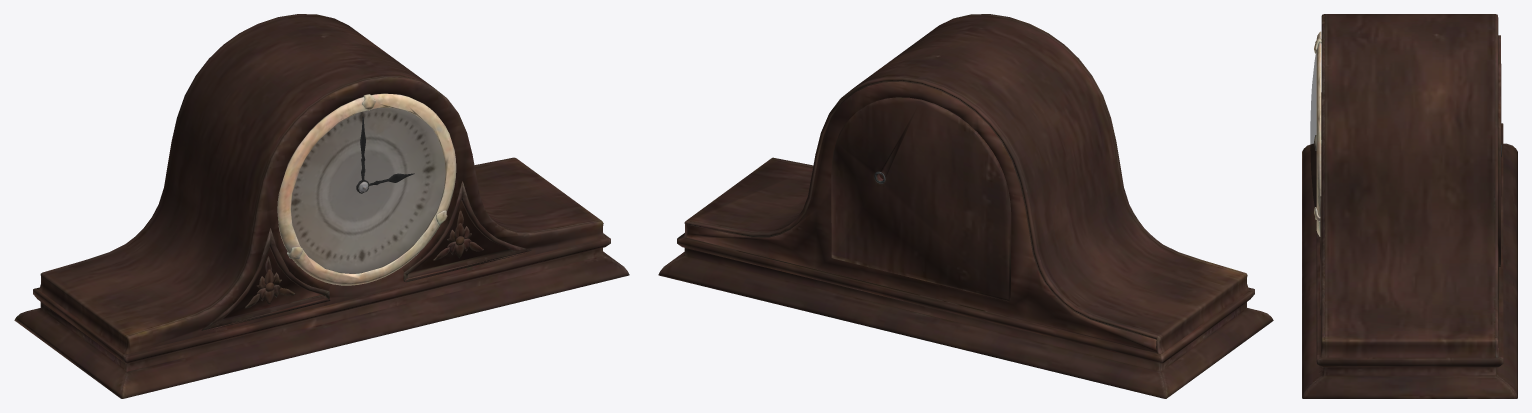
Rendered from mantel_clock_01.glb.
The picture shows the model from 3 angles, left to right: view 1: azimuth 30°, elevation 25°; view 2: azimuth 150°, elevation 25°; view 3: azimuth 270°, elevation 25°; orthographic projection.
Visible parts, largest first — view 1: mantel_clock_01, mantel_clock_01_glass; view 2: mantel_clock_01; view 3: mantel_clock_01, mantel_clock_01_glass.
Part boxes in pixels (box(x1,y1,x2,y2)): mantel_clock_01: box(14, 14, 629, 398); mantel_clock_01_glass: box(291, 108, 445, 273); mantel_clock_01: box(658, 14, 1273, 398); mantel_clock_01: box(1302, 14, 1517, 398); mantel_clock_01_glass: box(1310, 53, 1316, 207).
Bounding box in the file's own units: 0.3423 × 0.1605 × 0.126.
2 materials, 2 textured.
